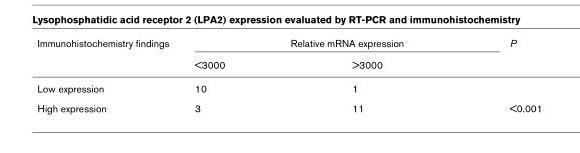table: (36, 36, 541, 113)
table column: (287, 36, 456, 113), (36, 36, 181, 113), (181, 36, 287, 113), (456, 36, 541, 113)
table column header: (36, 36, 541, 76)
table row: (36, 53, 541, 76), (36, 76, 541, 97), (36, 36, 541, 53), (36, 97, 541, 113)
table spanning cell: (36, 36, 181, 76), (181, 36, 456, 53), (456, 36, 541, 76)
